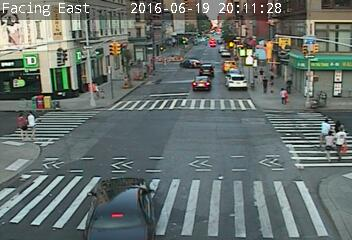neg: (141, 59, 154, 77), (178, 34, 189, 49), (158, 43, 166, 54), (208, 38, 215, 48)
pos: (319, 131, 341, 160), (331, 127, 351, 157), (22, 110, 43, 137), (9, 110, 29, 137), (319, 117, 333, 135), (279, 88, 291, 104), (259, 78, 271, 93), (267, 70, 277, 84), (257, 66, 267, 78), (336, 119, 345, 131), (251, 69, 259, 80)
